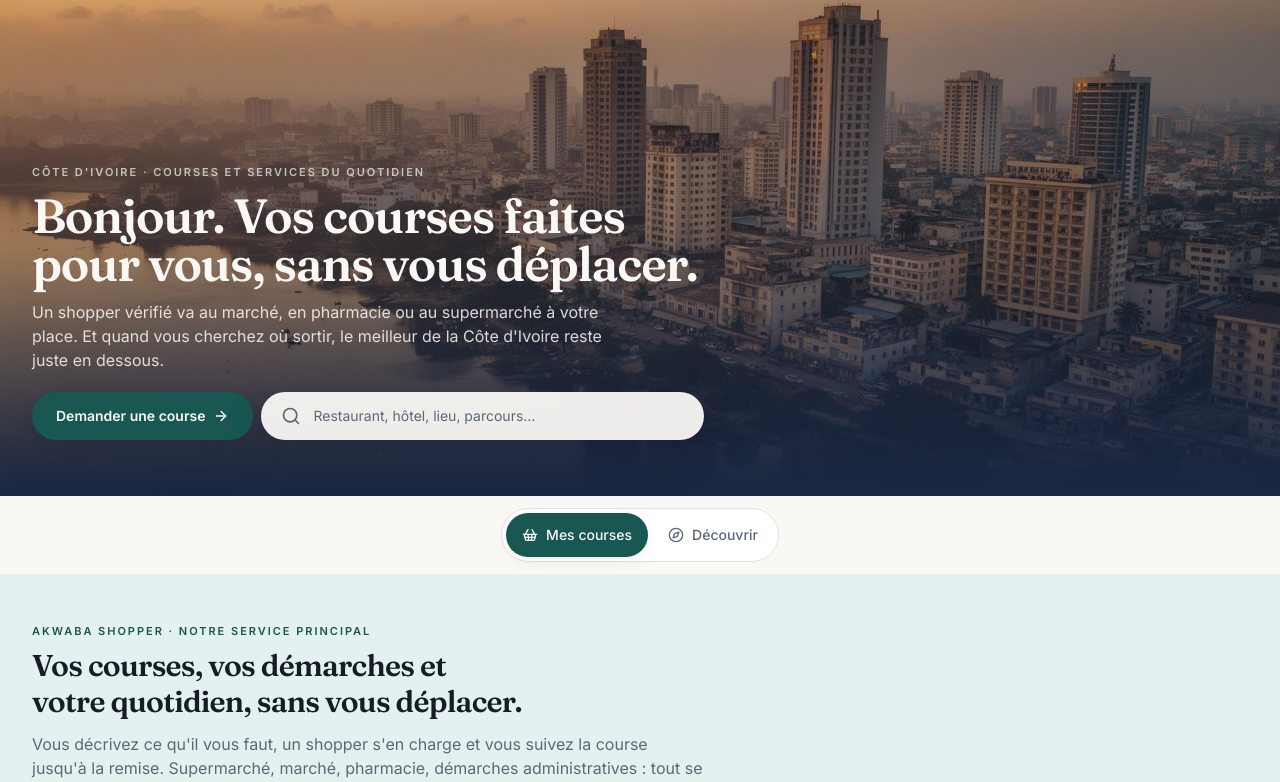
Test case: accueil : le Shopper est le service principal › bascule vers la découverte quand on la demande
Check: the link "Demander une course" is shown, box [32,392,253,440]
What coordinates should you click on to do the following:
click the tab "Découvrir"
I would click on:
 (713, 535)
Its box is [652,513,774,557].
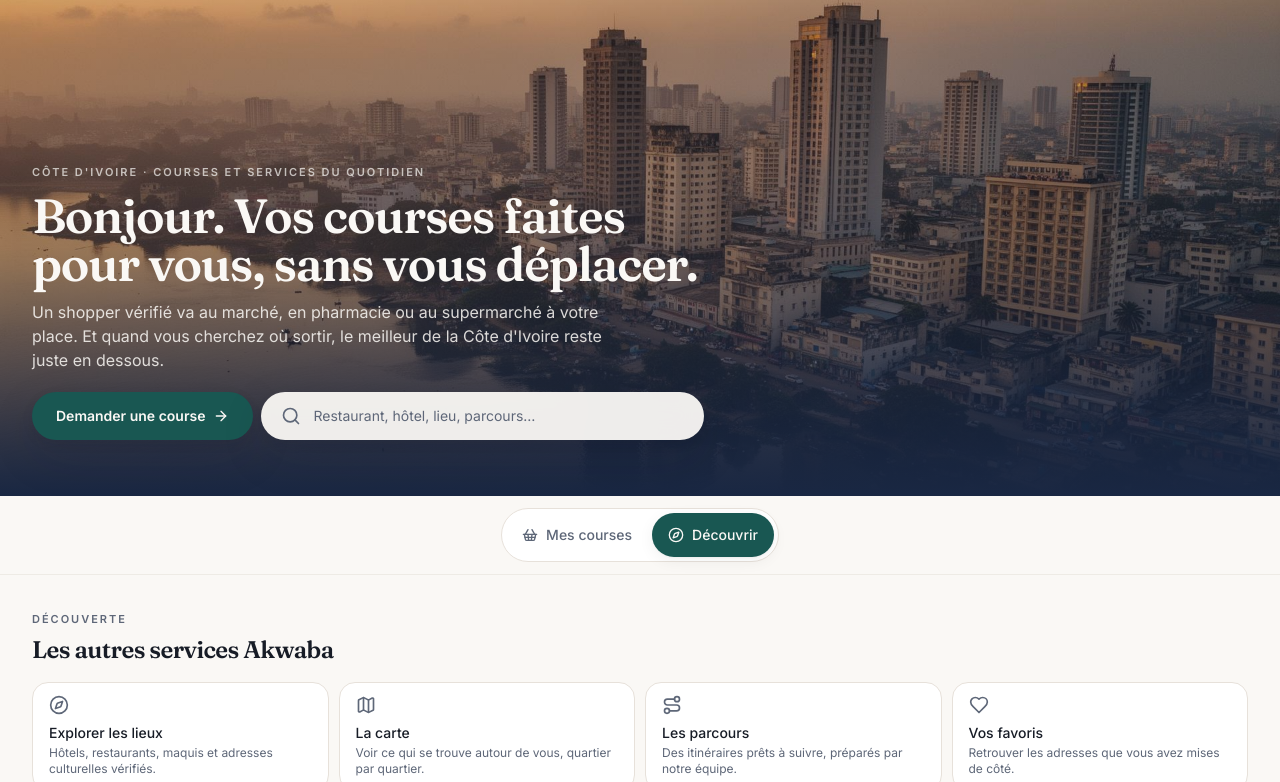
Check: the tab "Découvrir" is selected, box [652,513,774,557]
